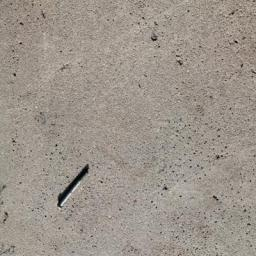FOD: (55, 161, 94, 216)
